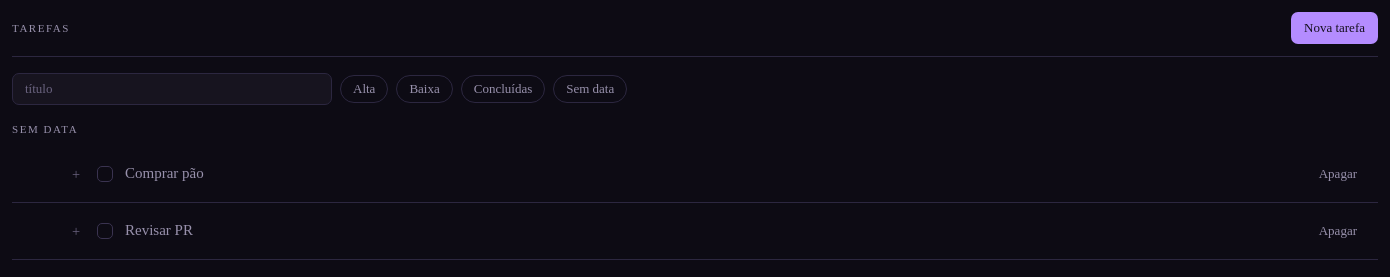
Test case: TasksPanel › filtra por busca textual
In the search field named "buscar tarefas": (172, 89) [12,73,332,105], type "pão"
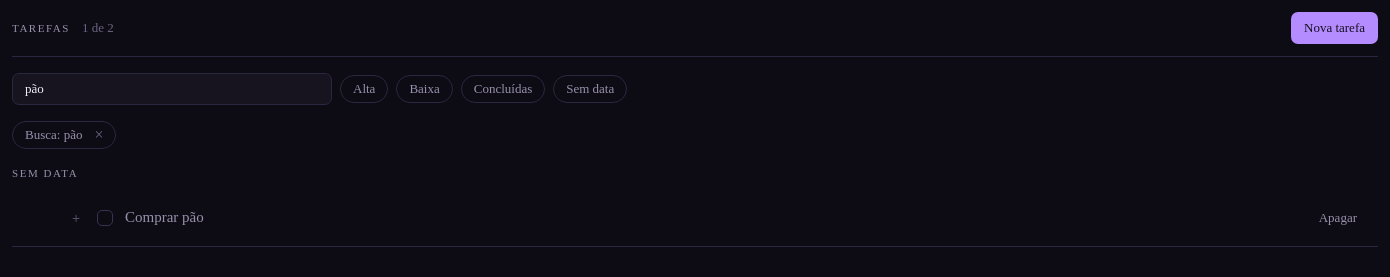
expect the text "Comprar pão" is shown: met, box [125,206,204,230]
expect the button "Revisar PR" is gone: met
